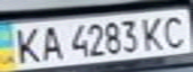2: (84, 20, 109, 57)
3: (118, 17, 142, 54)
4: (66, 20, 90, 58)
8: (103, 18, 124, 56)
A: (36, 23, 66, 62)
C: (157, 11, 193, 50)
K: (6, 24, 45, 65), (139, 14, 169, 52)
